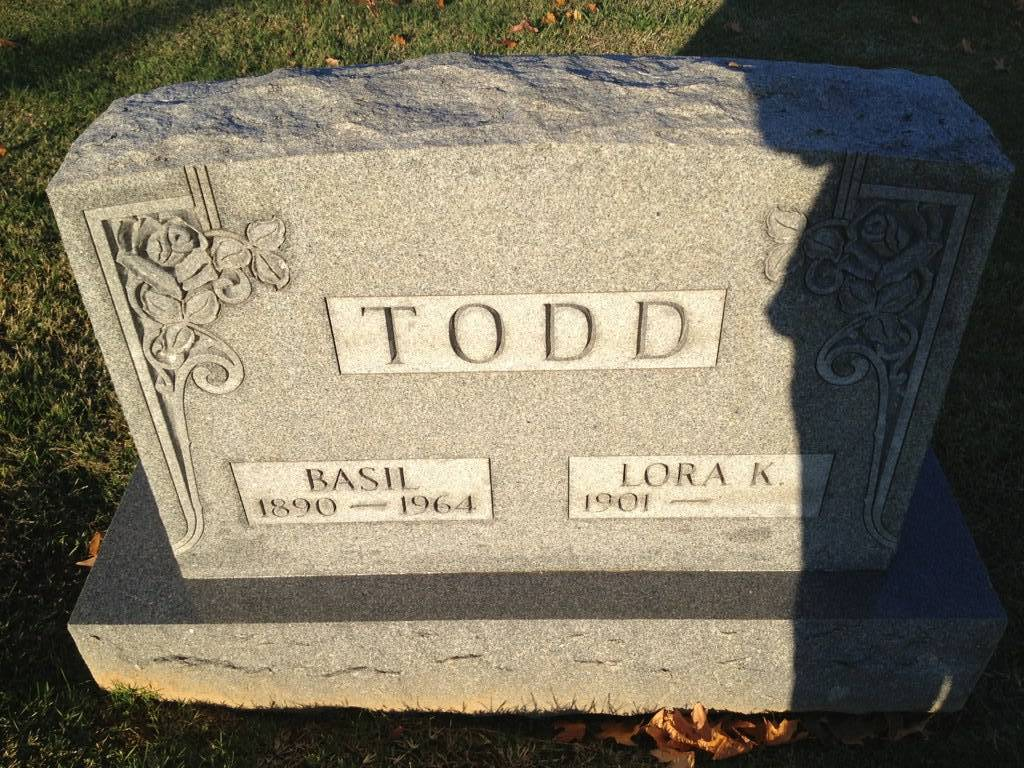upright: (42, 55, 1003, 748)
